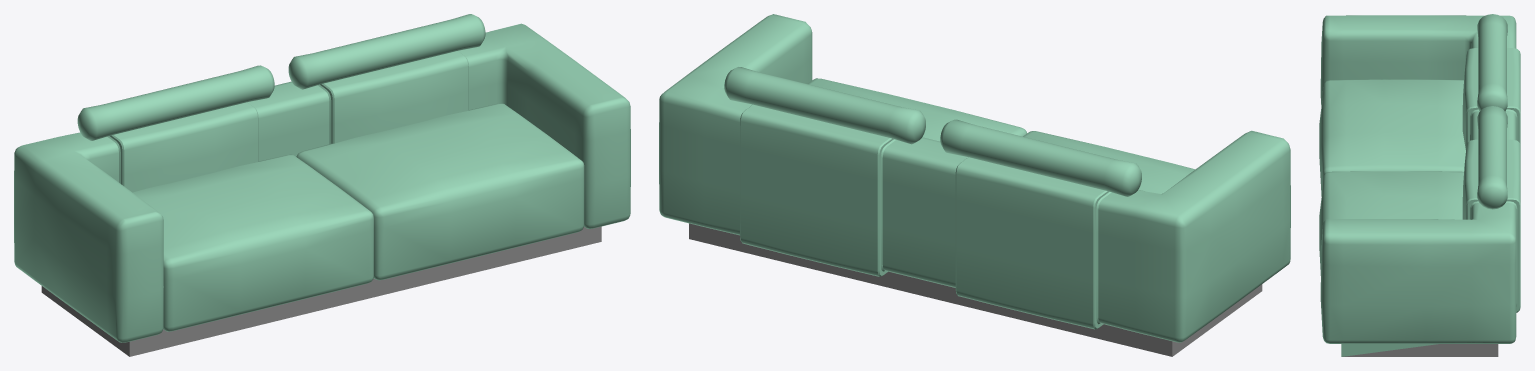
The model's file is MZCSF03.FBX.
3 renders of one model, left to right at view 1: azimuth 30°, elevation 25°; view 2: azimuth 150°, elevation 25°; view 3: azimuth 270°, elevation 25°, orthographic. The views are drawn at different scales.
Visible parts, largest first — view 1: MZCSF03; view 2: MZCSF03; view 3: MZCSF03.
Part boxes in pixels (bbox=[...]): MZCSF03: bbox=[14, 14, 630, 356]; MZCSF03: bbox=[659, 14, 1290, 356]; MZCSF03: bbox=[1319, 14, 1520, 356].
Size of the model in its own units: 240 by 89.98 by 77.
